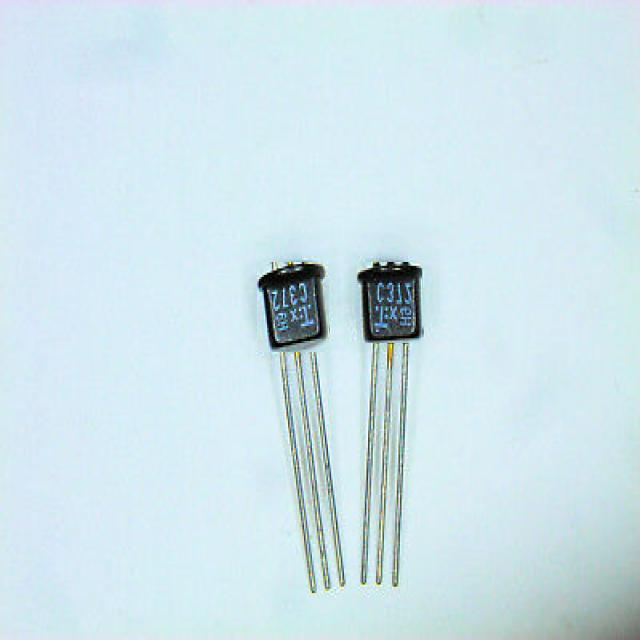Transistor: (233, 234, 354, 610), (358, 240, 430, 602)
